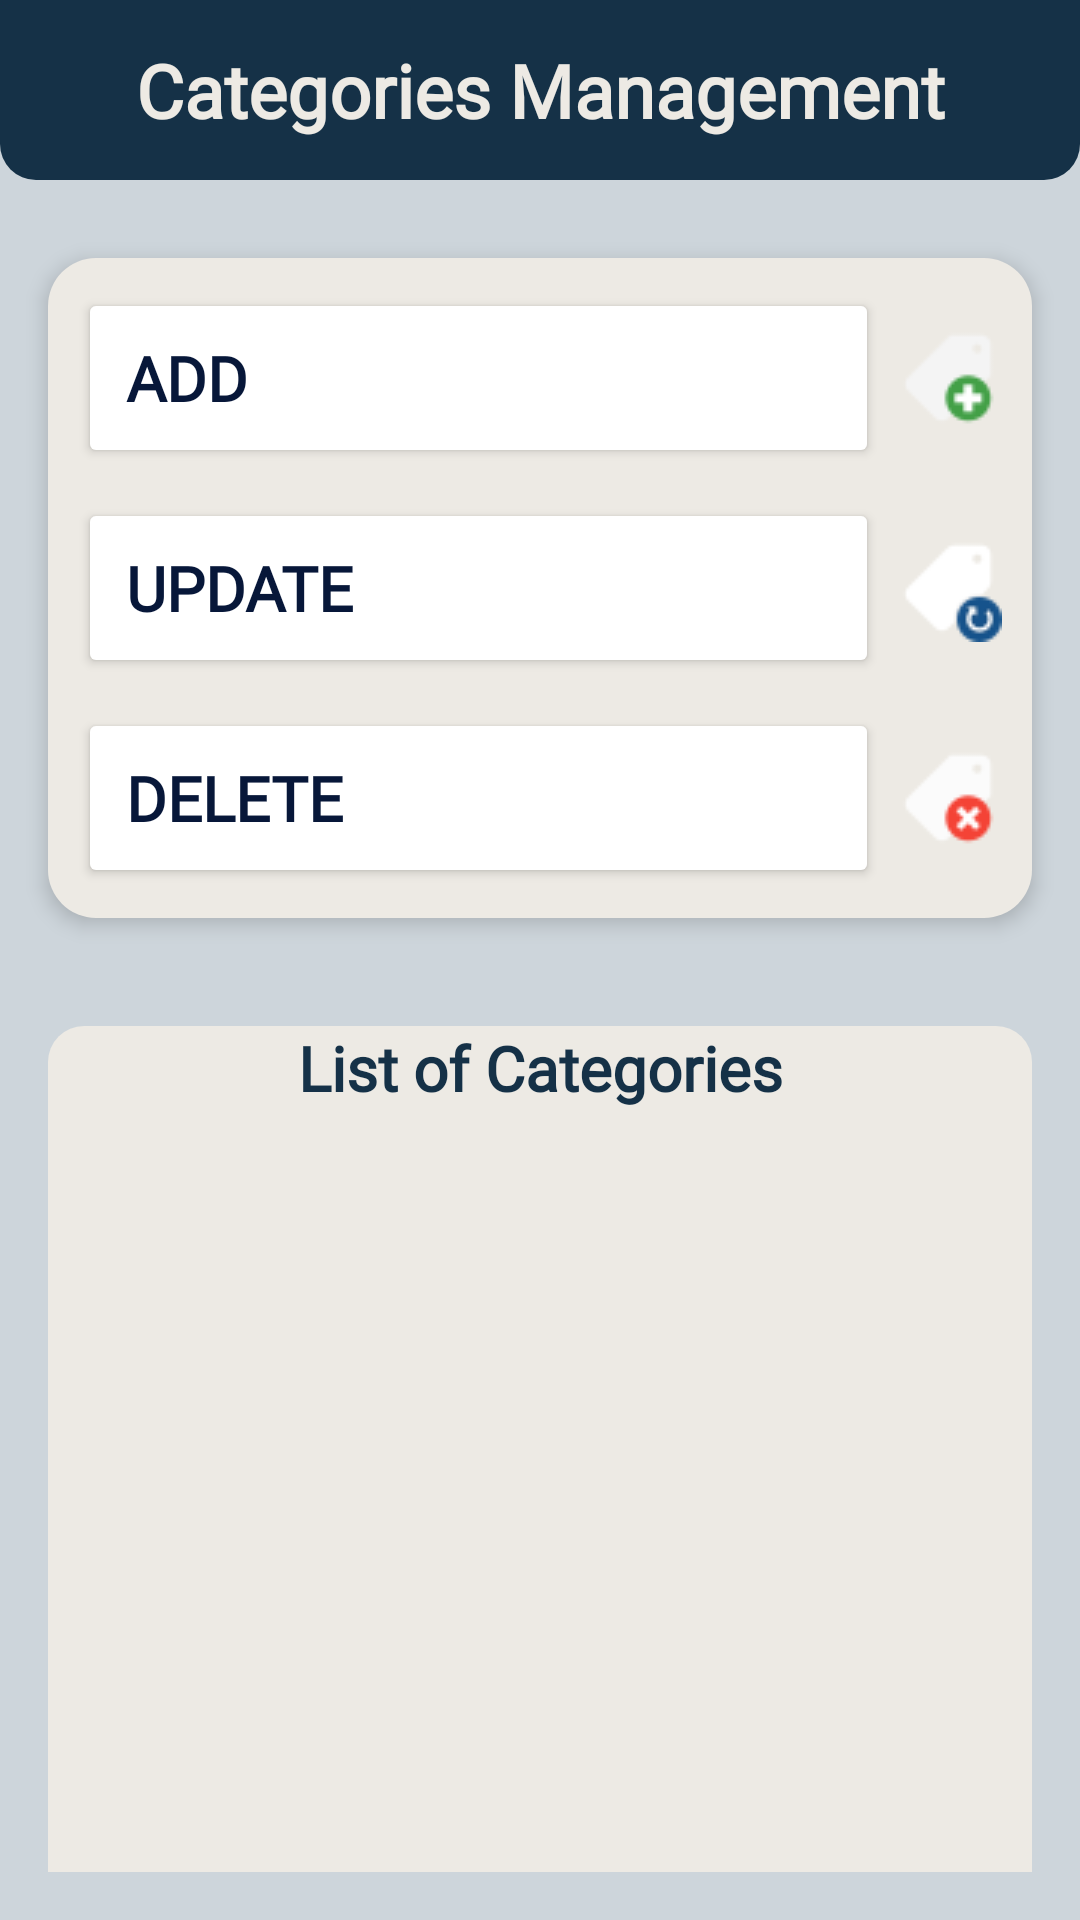

Where to tap for icons on this 1080w x 1920h app screen, as [x,y]:
add category: [968,398]
remove category: [968,818]
